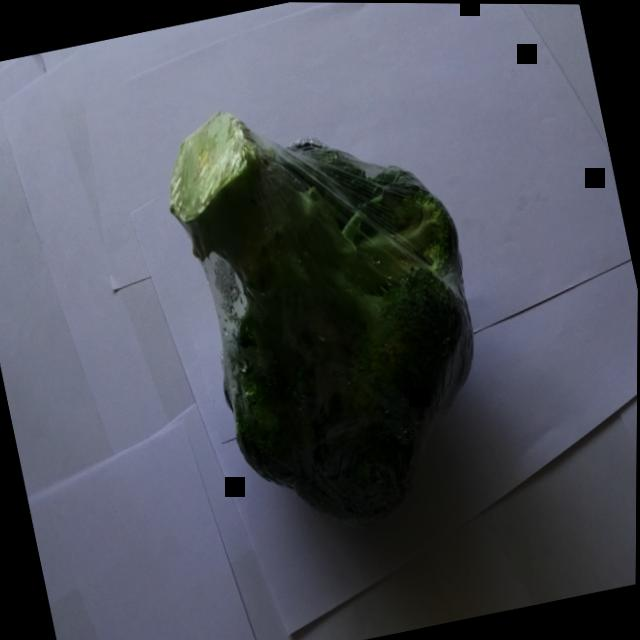Broccoli: (138, 56, 518, 555)
